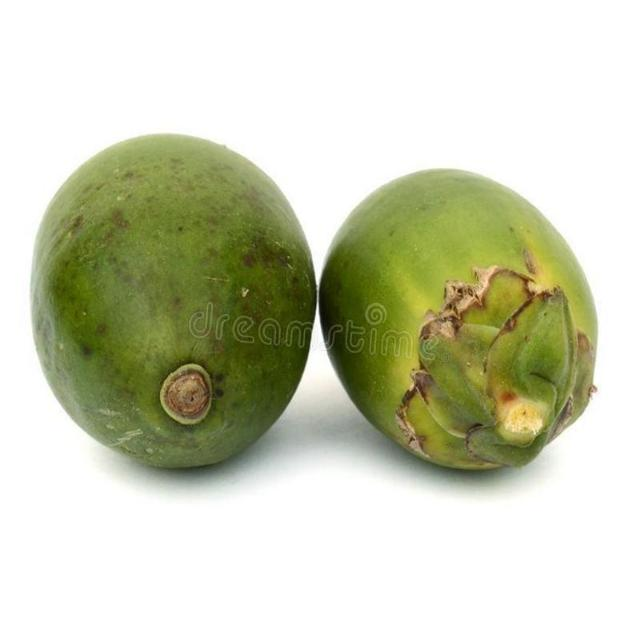good: (27, 132, 318, 472), (317, 169, 600, 473)
